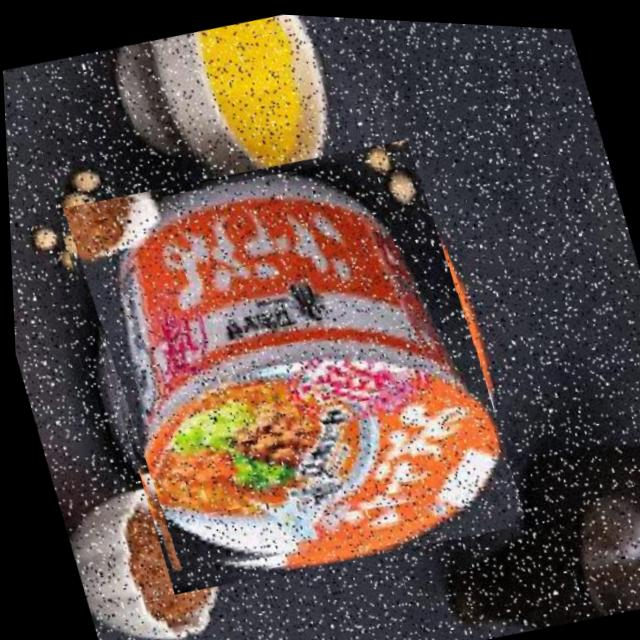Miscellaneous: (50, 126, 522, 602)
